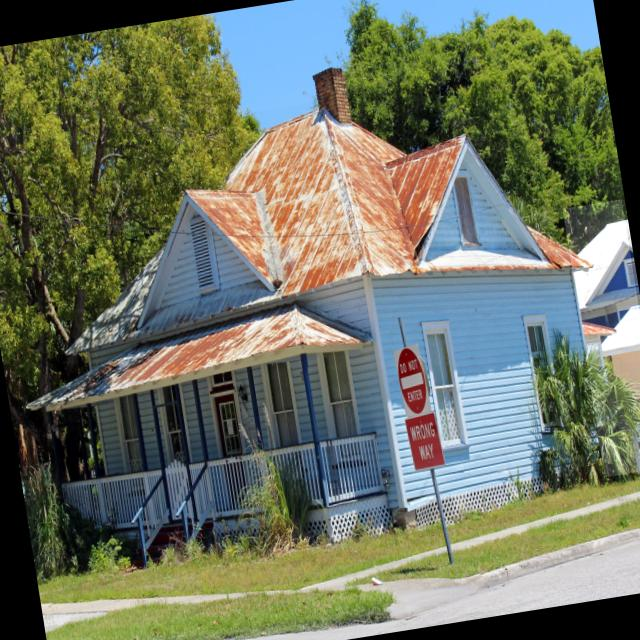House: (0, 63, 630, 591), (562, 199, 640, 477)
